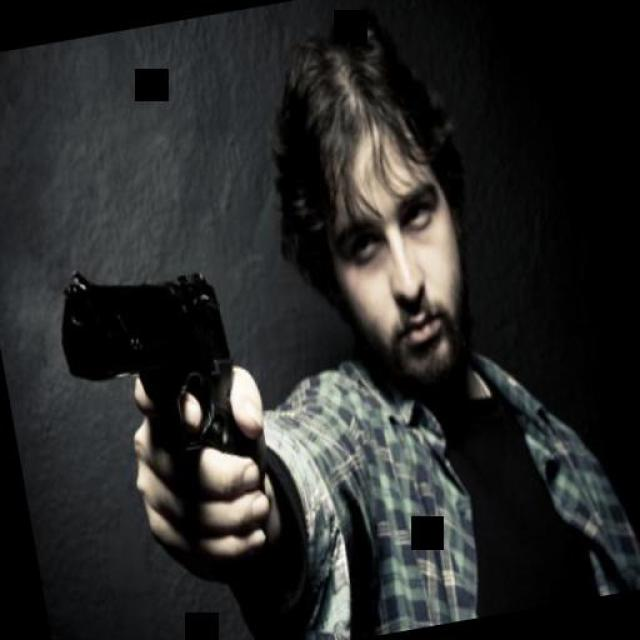gun: (41, 239, 260, 496)
